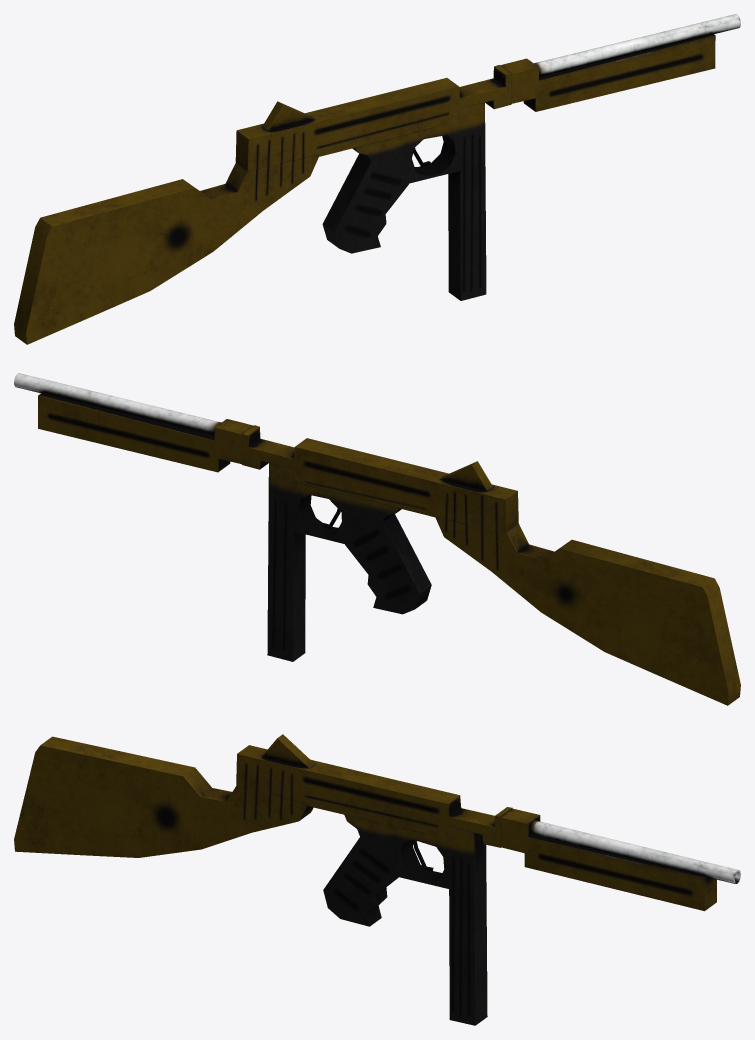
Rendered from Gun ready.fbx.
3 renders of one model, top to bottom at view 1: azimuth 30°, elevation 25°; view 2: azimuth 150°, elevation 25°; view 3: azimuth 330°, elevation 25°, orthographic.
Parts seen in each view (by area): view 1: Line002; view 2: Line002; view 3: Line002.
Boxes of the visible parts, x1,y1,x2,y2 form: Line002: [14, 14, 740, 344]; Line002: [14, 373, 740, 705]; Line002: [14, 734, 740, 1025].
Size of the model in its own units: 171 by 5 by 53.92.
Materials: 1 (1 with a texture image).
